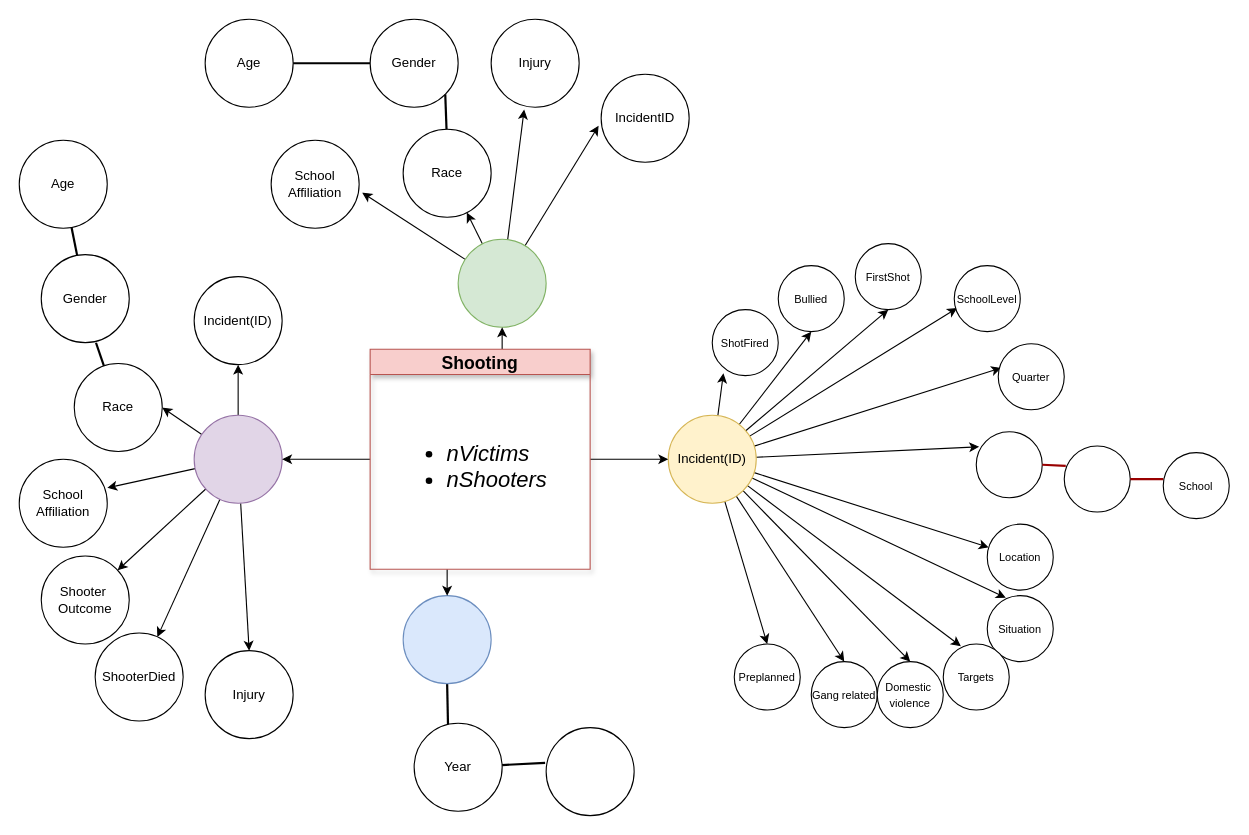
The diagram is 1249 pixels wide and 835 high, and some of its shapes have lost their labels. The shapes that lost their labels are listed below. From the top down, each one's centre as x and y in pixels, then its label:
the point at 501,282: Victim(ID)
the point at 237,458: Shooter(ID)
the point at 1008,464: State
the point at 1096,478: City
the point at 446,639: Date
the point at 589,771: Month
